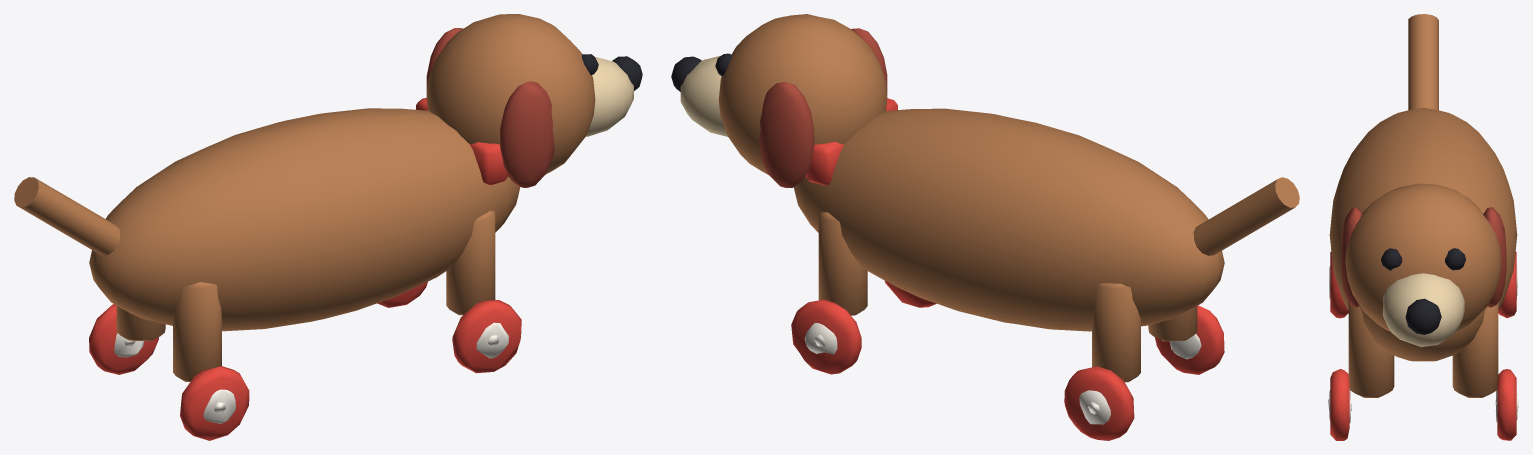
The model's file is dog.glb.
3 renders of one model, left to right at view 1: azimuth 30°, elevation 25°; view 2: azimuth 150°, elevation 25°; view 3: azimuth 270°, elevation 25°, orthographic. The views are drawn at different scales.
Parts seen in each view (by area): view 1: dog; view 2: dog; view 3: dog.
Part boxes in pixels (bbox=[...]): dog: bbox=[14, 14, 642, 440]; dog: bbox=[671, 14, 1299, 440]; dog: bbox=[1328, 14, 1518, 440].
Bounding box in the file's own units: 1.28 × 0.5899 × 0.3658.
Materials: 1 (1 with a texture image).
